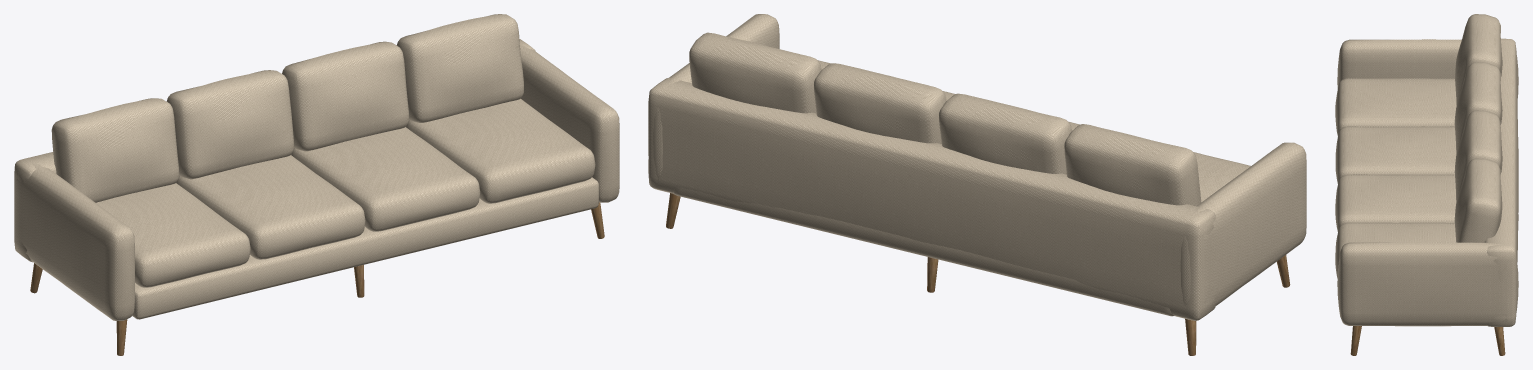
File: sofa_nordico_4p.glb
The picture shows the model from 3 angles, left to right: view 1: azimuth 30°, elevation 25°; view 2: azimuth 150°, elevation 25°; view 3: azimuth 270°, elevation 25°; orthographic projection. The views are drawn at different scales.
Visible parts, largest first — view 1: sofa_nordico_4p; view 2: sofa_nordico_4p; view 3: sofa_nordico_4p.
Part boxes in pixels (x1,y1,x2,y2): sofa_nordico_4p: [14, 14, 619, 355]; sofa_nordico_4p: [648, 14, 1306, 355]; sofa_nordico_4p: [1335, 14, 1518, 355].
Bounding box in the file's own units: 2.46 × 0.8069 × 0.8908.
Materials: 2 (2 with a texture image).
